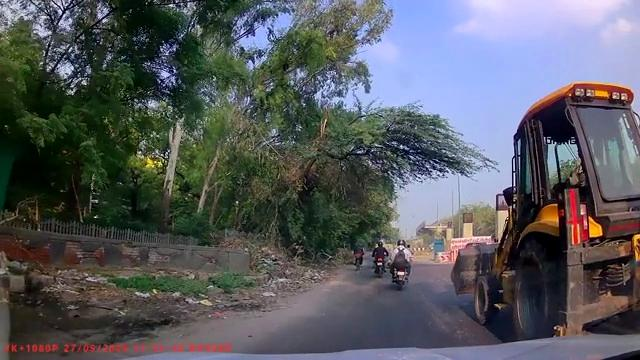motorcycle_with_helmet: (390, 239, 412, 291), (372, 241, 388, 276)
